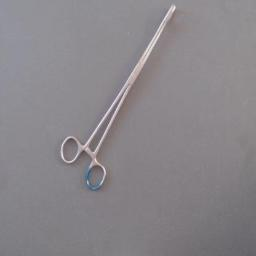Sponge Forceps: (56, 0, 184, 194)
